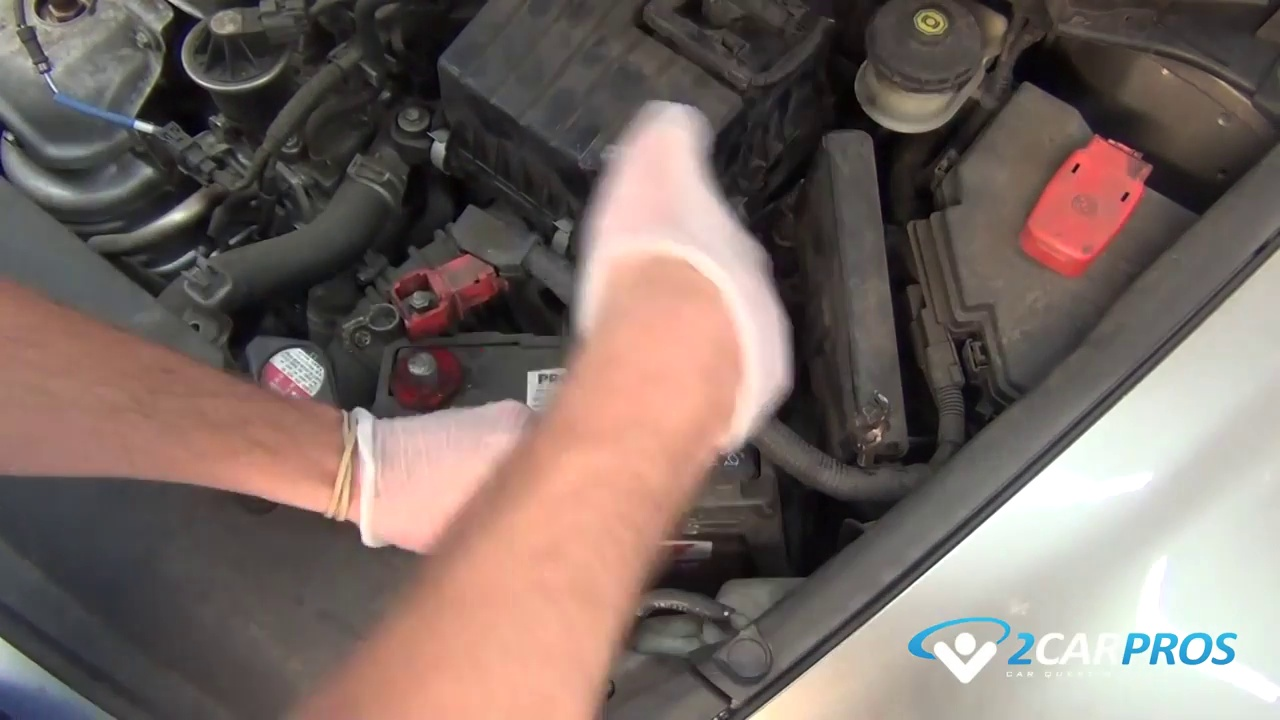battery: (372, 316, 784, 527)
pos_disconnected: (378, 240, 518, 405)
